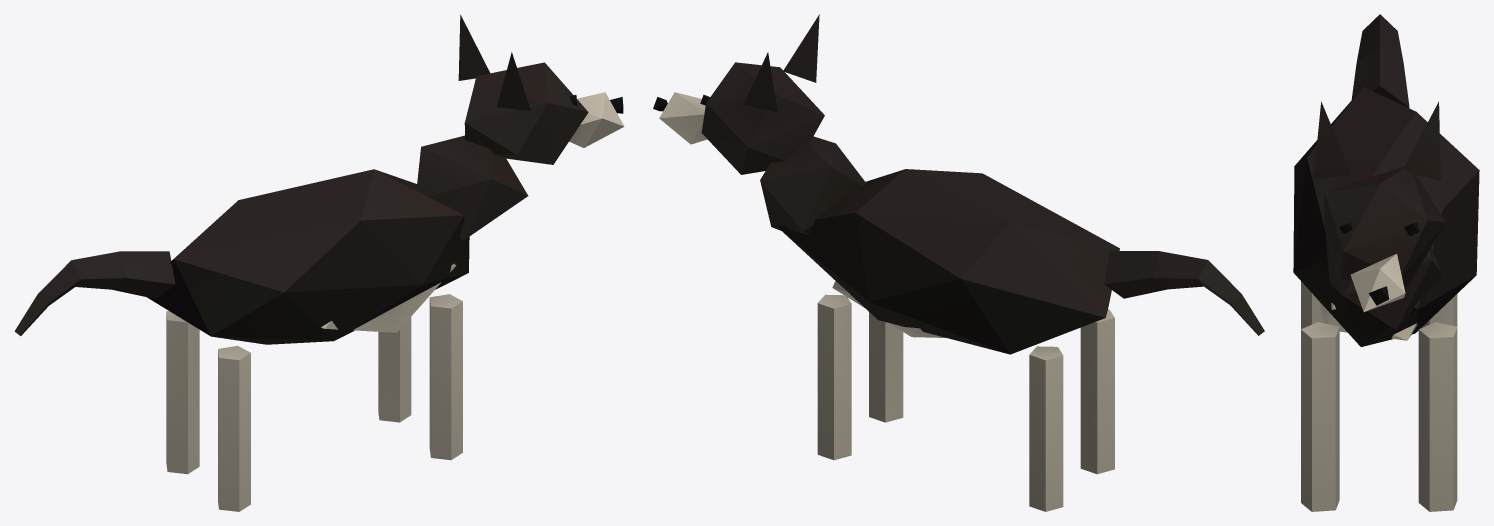
File: dog.glb
3 renders of one model, left to right at view 1: azimuth 30°, elevation 25°; view 2: azimuth 150°, elevation 25°; view 3: azimuth 270°, elevation 25°, orthographic. The views are drawn at different scales.
Parts seen in each view (by area): view 1: base, head_m; view 2: base, head_m; view 3: base, head_m.
Boxes of the visible parts, box(x1,y1,x2,y2) form: base: box(14, 135, 528, 511); head_m: box(458, 14, 624, 164); base: box(760, 136, 1264, 511); head_m: box(653, 14, 824, 174); base: box(1293, 14, 1479, 511); head_m: box(1313, 101, 1445, 311).
Bounding box in the file's own units: 0.5457 × 0.33 × 0.1263.
